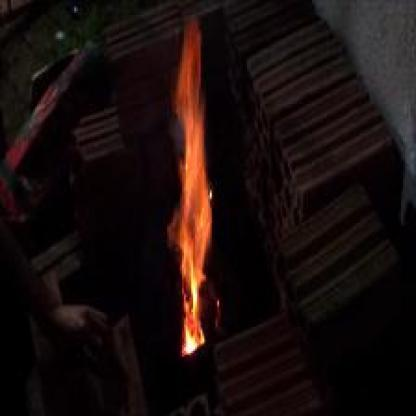fire: (167, 53, 220, 368)
